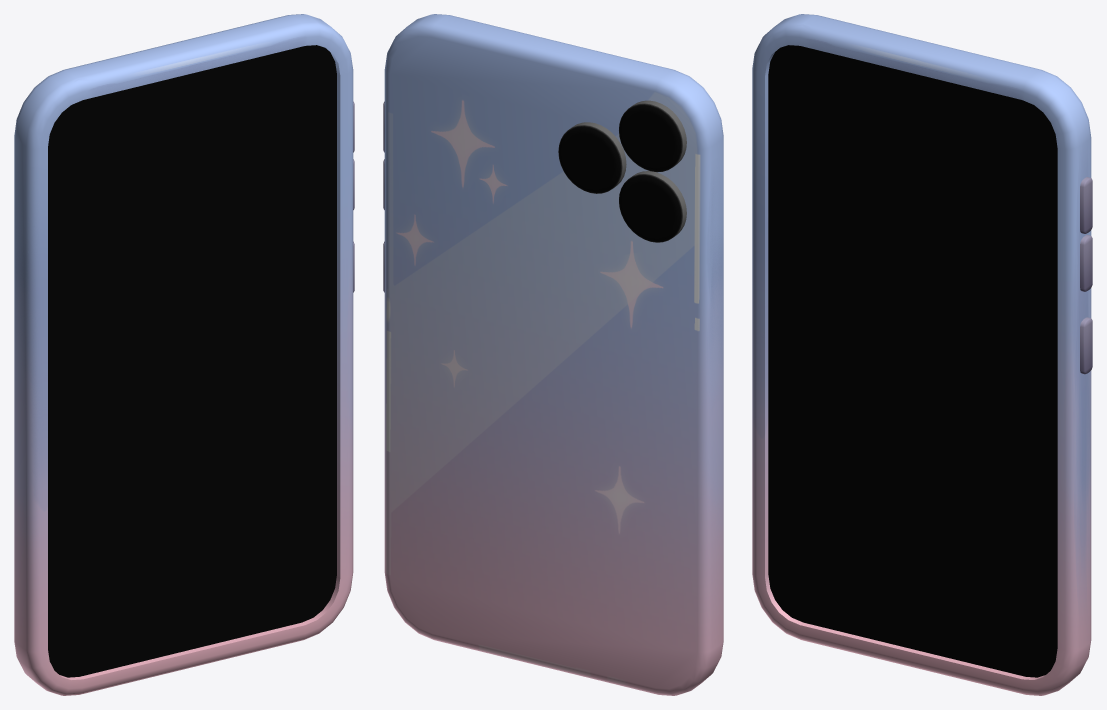
File: Phone.fbx
The picture shows the model from 3 angles, left to right: view 1: azimuth 30°, elevation 25°; view 2: azimuth 150°, elevation 25°; view 3: azimuth 330°, elevation 25°; orthographic projection.
Parts seen in each view (by area): view 1: Phone; view 2: Phone; view 3: Phone.
Part boxes in pixels (x1,y1,x2,y2): Phone: (14, 14, 354, 695); Phone: (383, 14, 723, 695); Phone: (752, 14, 1092, 695).
Size of the model in its own units: 17.03 by 30.37 by 2.4.
Materials: 3 (2 with a texture image).
